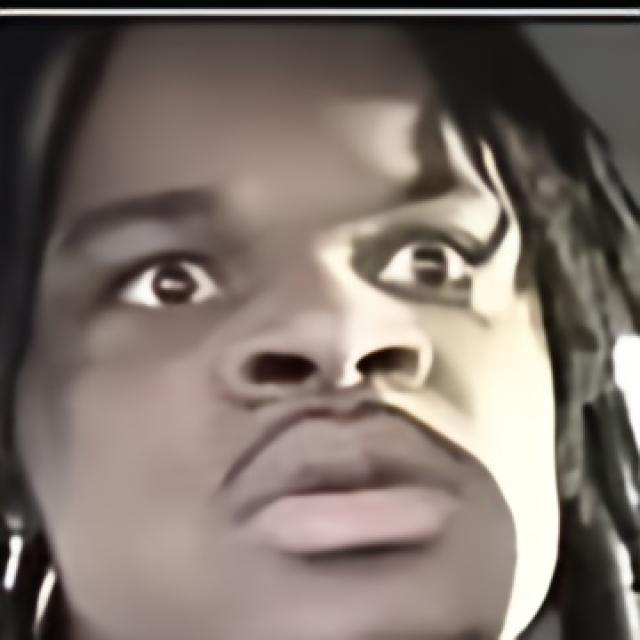fear: (13, 23, 560, 640)
